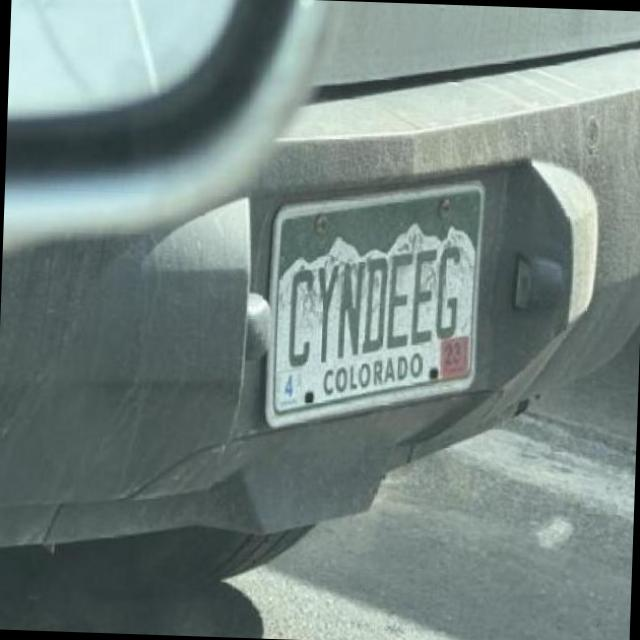LicensePlate: (264, 180, 484, 427)
